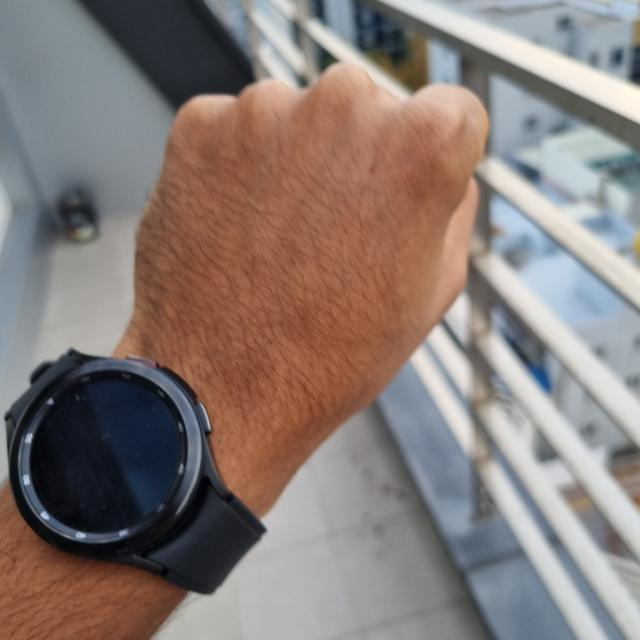Rock: (133, 63, 487, 485)
